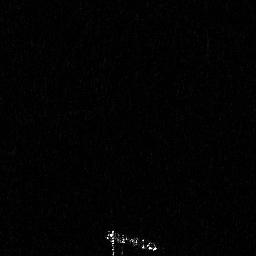ship: (104, 226, 160, 256)
